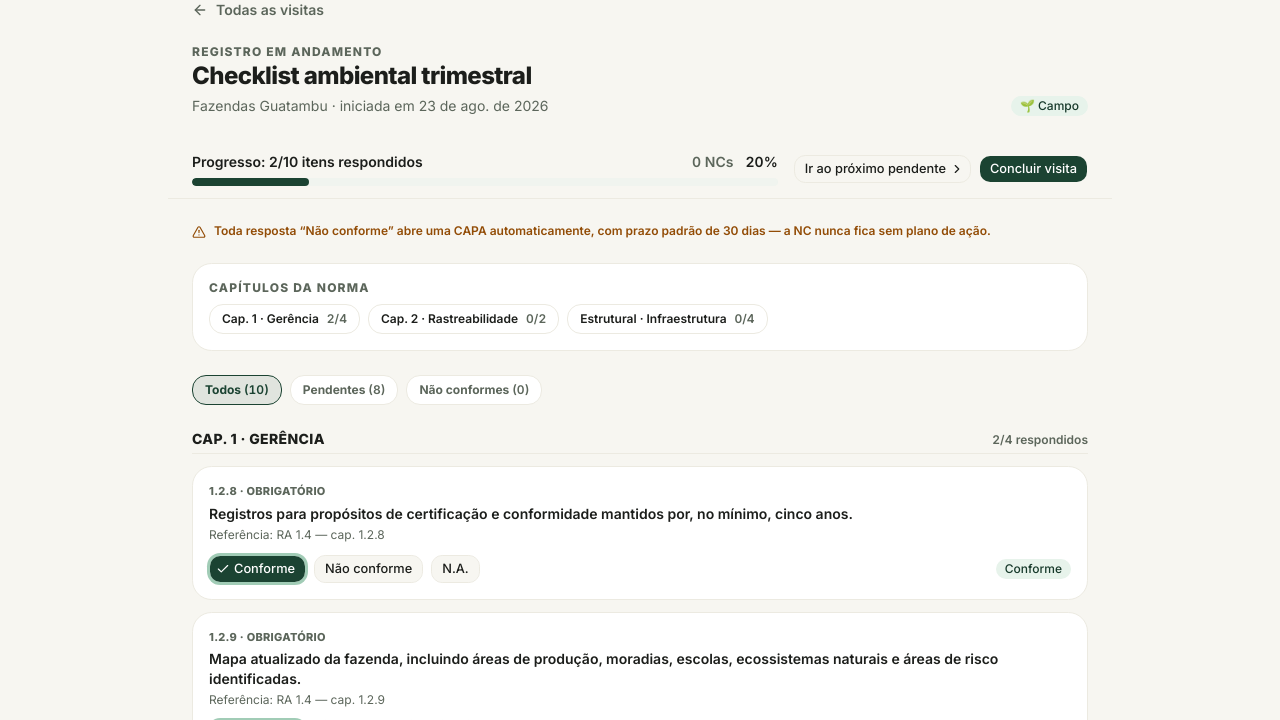
Scenario: ExecucaoVisita — fotos de evidência na NC › abrir a NC mostra o contador de fotos do item e o campo de anexo
This screenshot has width=1280, height=720.
Click the button "Não conforme" below "RA 1.4 — cap. 1.2.8".
click(369, 569)  # box top-left (314, 555), bottom-right (423, 583)
(page scrolled)
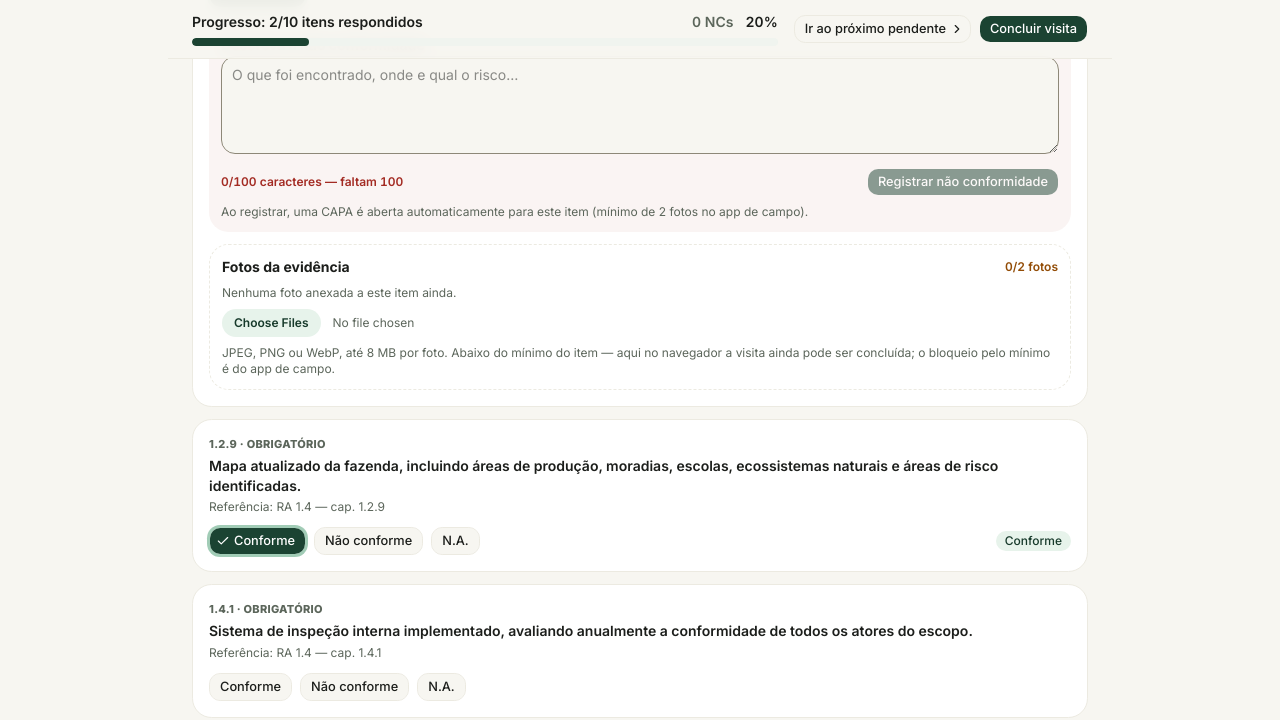
Result: the file field labelled "Fotos da evidência" is shown at top-left (222, 309), bottom-right (1058, 337)
Result: the text "o bloqueio pelo mínimo é do app de campo" is shown at top-left (222, 345), bottom-right (1050, 376)
